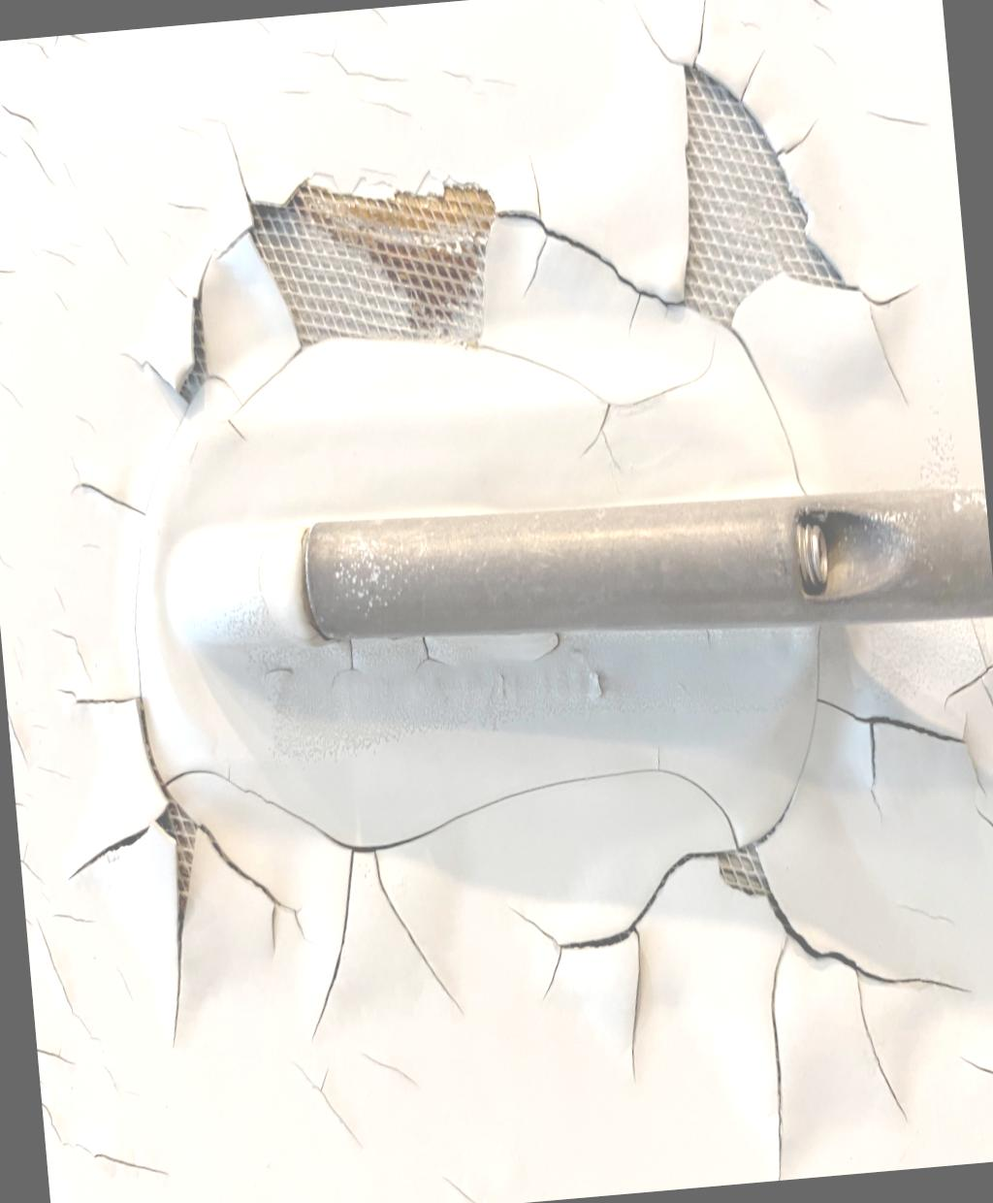crack: (0, 29, 993, 1203)
